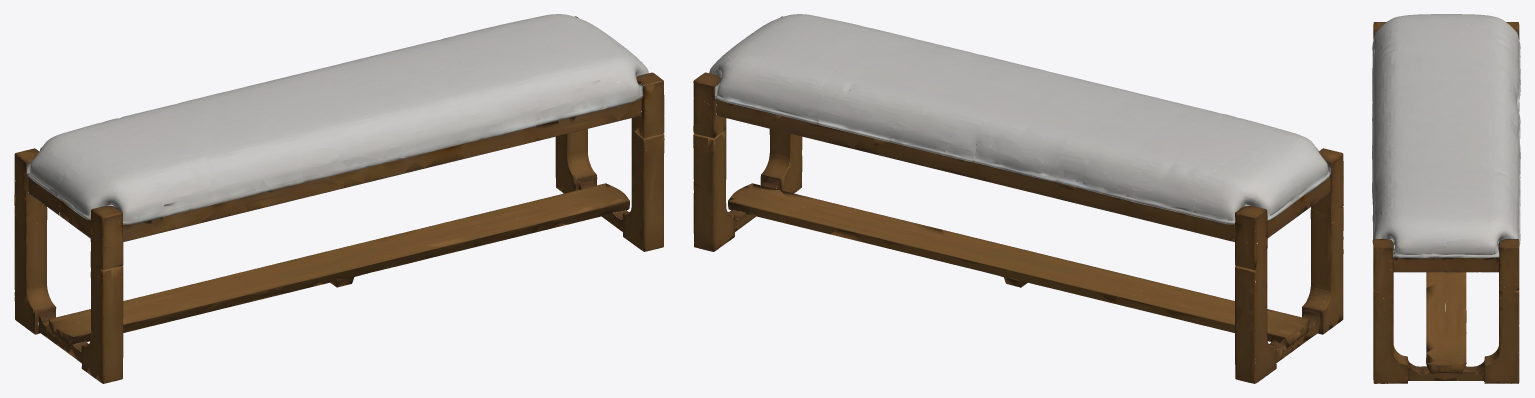
The model's file is outdoor-bench-tripo.glb.
The picture shows the model from 3 angles, left to right: view 1: azimuth 30°, elevation 25°; view 2: azimuth 150°, elevation 25°; view 3: azimuth 270°, elevation 25°; orthographic projection. The views are drawn at different scales.
Visible parts, largest first — view 1: OutdoorBenchTripoOptimized; view 2: OutdoorBenchTripoOptimized; view 3: OutdoorBenchTripoOptimized.
Boxes of the visible parts, left/top/right/bottom form: OutdoorBenchTripoOptimized: left=14, top=14, right=664, bottom=383; OutdoorBenchTripoOptimized: left=693, top=14, right=1343, bottom=383; OutdoorBenchTripoOptimized: left=1372, top=14, right=1520, bottom=383.
Size of the model in its own units: 3.05 by 0.9879 by 0.8475.
1 material, 1 textured.
